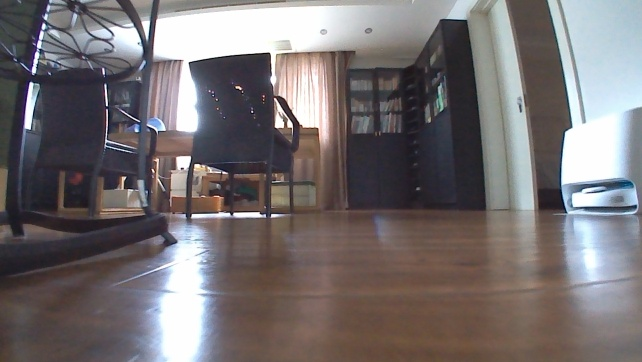dining_table: (28, 52, 336, 222)
